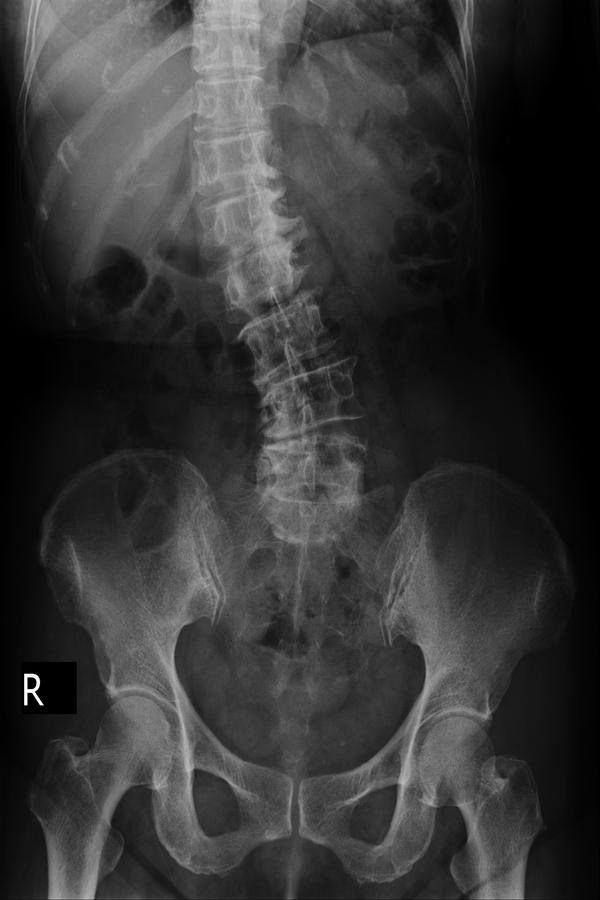lumbar scoliosis: (187, 3, 371, 553)
